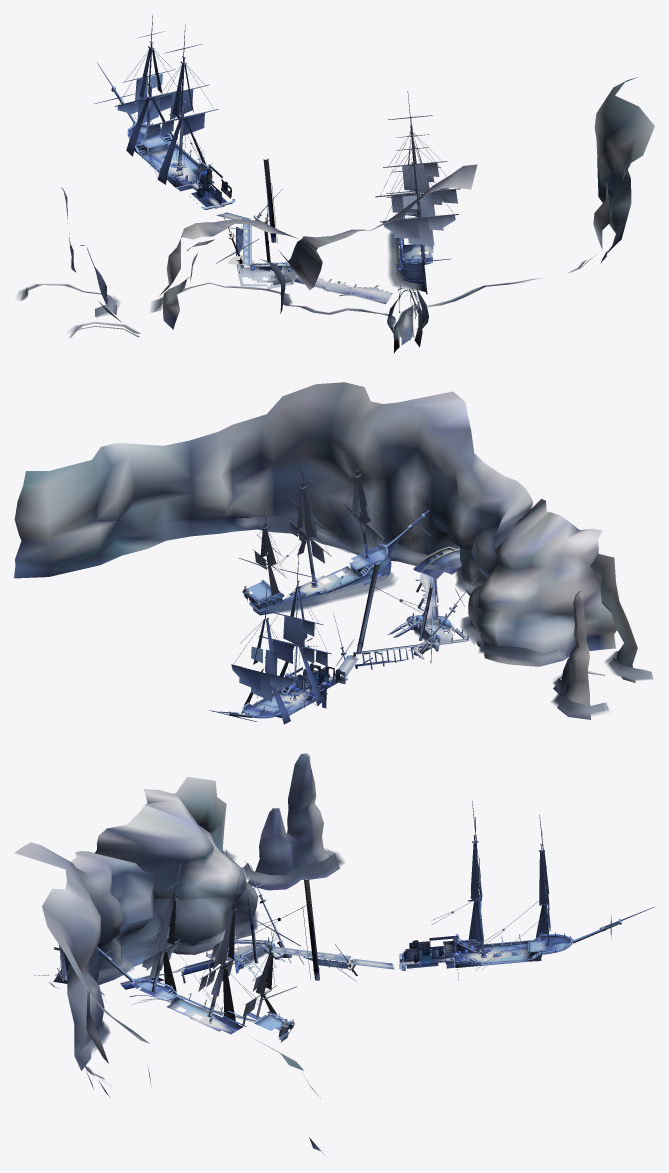
The model's file is 01Opening.gltf.
3 renders of one model, top to bottom at view 1: azimuth 30°, elevation 25°; view 2: azimuth 150°, elevation 25°; view 3: azimuth 270°, elevation 25°, orthographic. The views are drawn at different scales.
Parts seen in each view (by area): view 1: stg050_o40_Mesh_0000, stg050_p27_Mesh_0003, stg050_o27_Mesh_0001, stg050_o27_Mesh_0009, stg050_shibuki_a_40_Mesh_0000, stg050_o27_Mesh_0011, stg050_p27_Mesh_0000, stg050_shibuki_a_40_Mesh_0004, stg050_o27_Mesh_0003, stg050_o27_Mesh_0012, stg050_o27_Mesh_0000; view 2: stg050_o40_Mesh_0000, stg050_o27_Mesh_0001, stg050_shibuki_a_40_Mesh_0004, stg050_shibuki_a_40_Mesh_0000, stg050_o27_Mesh_0009, stg050_p27_Mesh_0003, stg050_a40_Mesh_0000, stg050_o27_Mesh_0011, stg050_p27_Mesh_0000, stg050_o27_Mesh_0000, stg050_o27_Mesh_0012, stg050_o27_Mesh_0003; view 3: stg050_o40_Mesh_0000, stg050_o27_Mesh_0009, stg050_o27_Mesh_0001, stg050_p27_Mesh_0000, stg050_shibuki_a_40_Mesh_0000, stg050_shibuki_a_40_Mesh_0004, stg050_o27_Mesh_0011, stg050_a40_Mesh_0000, stg050_p27_Mesh_0003, stg050_o27_Mesh_0003, stg050_o27_Mesh_0012, stg050_o27_Mesh_0000.
Part boxes in pixels (x1,y1,x2,y2): stg050_o40_Mesh_0000: [60, 77, 654, 347]; stg050_p27_Mesh_0003: [117, 73, 457, 245]; stg050_o27_Mesh_0001: [94, 14, 460, 353]; stg050_o27_Mesh_0009: [129, 117, 433, 303]; stg050_shibuki_a_40_Mesh_0000: [16, 231, 594, 340]; stg050_o27_Mesh_0011: [111, 41, 428, 337]; stg050_p27_Mesh_0000: [126, 47, 428, 205]; stg050_shibuki_a_40_Mesh_0004: [23, 238, 586, 337]; stg050_o27_Mesh_0003: [119, 49, 453, 312]; stg050_o27_Mesh_0012: [131, 122, 426, 345]; stg050_o27_Mesh_0000: [136, 96, 424, 348]; stg050_o40_Mesh_0000: [14, 382, 637, 719]; stg050_o27_Mesh_0001: [209, 445, 477, 721]; stg050_shibuki_a_40_Mesh_0004: [248, 515, 653, 714]; stg050_shibuki_a_40_Mesh_0000: [236, 517, 650, 716]; stg050_o27_Mesh_0009: [244, 522, 463, 718]; stg050_p27_Mesh_0003: [231, 499, 383, 701]; stg050_a40_Mesh_0000: [394, 491, 519, 664]; stg050_o27_Mesh_0011: [228, 470, 468, 716]; stg050_p27_Mesh_0000: [241, 475, 370, 724]; stg050_o27_Mesh_0000: [248, 521, 461, 716]; stg050_o27_Mesh_0012: [247, 543, 459, 716]; stg050_o27_Mesh_0003: [234, 477, 457, 716]; stg050_o40_Mesh_0000: [14, 753, 339, 1154]; stg050_o27_Mesh_0009: [120, 899, 572, 1034]; stg050_o27_Mesh_0001: [47, 801, 654, 1039]; stg050_p27_Mesh_0000: [157, 842, 549, 1020]; stg050_shibuki_a_40_Mesh_0000: [37, 848, 344, 1086]; stg050_shibuki_a_40_Mesh_0004: [49, 849, 340, 1080]; stg050_o27_Mesh_0011: [34, 835, 621, 1039]; stg050_a40_Mesh_0000: [98, 882, 246, 943]; stg050_p27_Mesh_0003: [142, 867, 550, 1017]; stg050_o27_Mesh_0003: [59, 843, 606, 1016]; stg050_o27_Mesh_0012: [140, 930, 563, 1030]; stg050_o27_Mesh_0000: [44, 896, 540, 1042].
Bounding box in the file's own units: 610 × 166 × 534.
